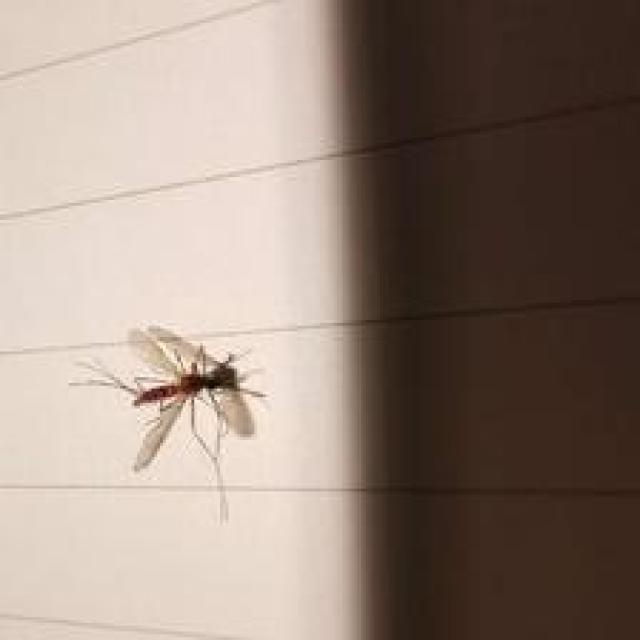Culex: (69, 320, 268, 523)
